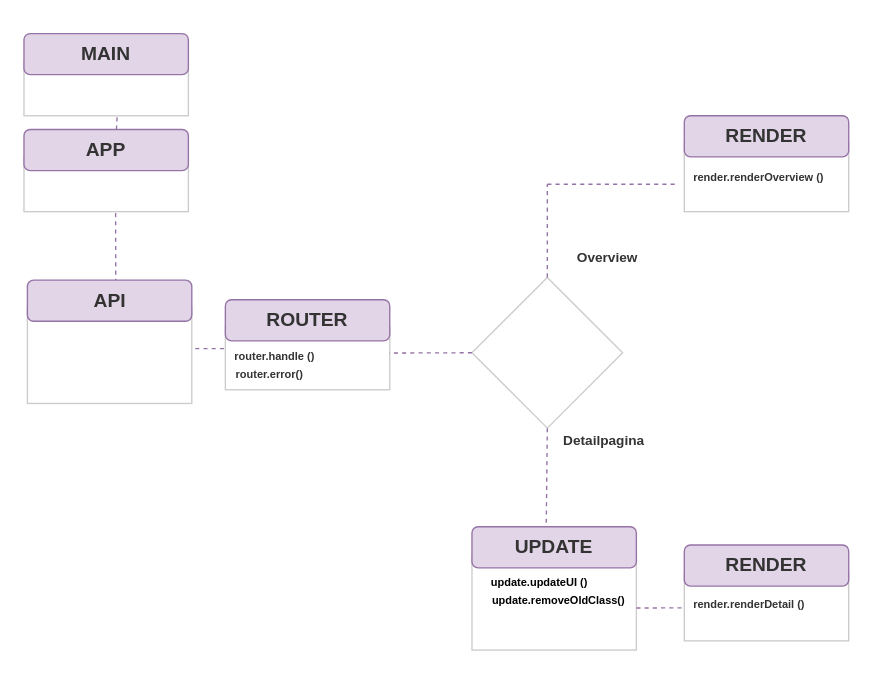
This 873x674 diagram has some shape labels left out. The shapes that lost their labels are listed below. From the top down, each one's box as (x1, y1, x2, y2) in pixels, then its label:
(23, 60, 188, 116): app.Innit ()
(23, 155, 188, 212): api.getData ()
(26, 306, 192, 403): api.fetch ()
(471, 276, 623, 428): Welke pagina wordt er opgehaald?
